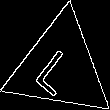L_NE: (33, 38, 87, 96)
